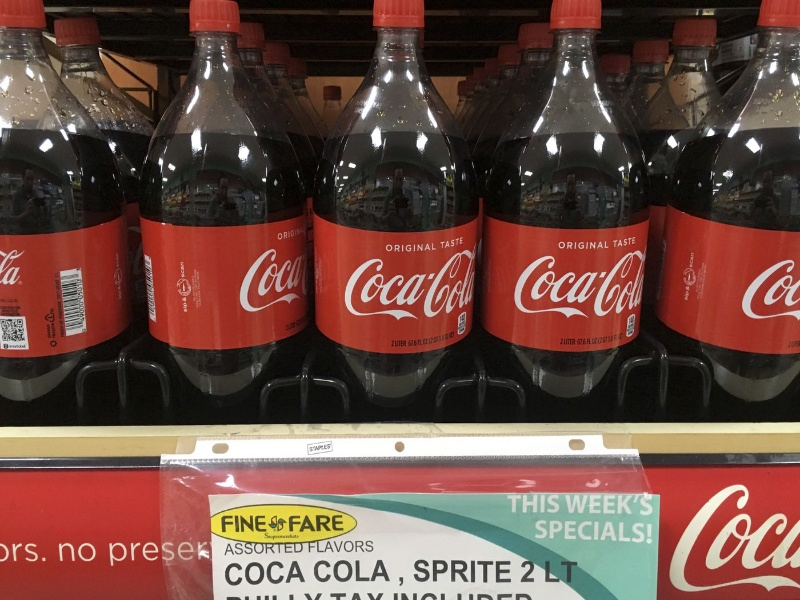Plastic bottle: (108, 16, 332, 391), (297, 10, 489, 417), (473, 7, 658, 423), (3, 9, 163, 415), (665, 23, 800, 433), (44, 16, 167, 180)
